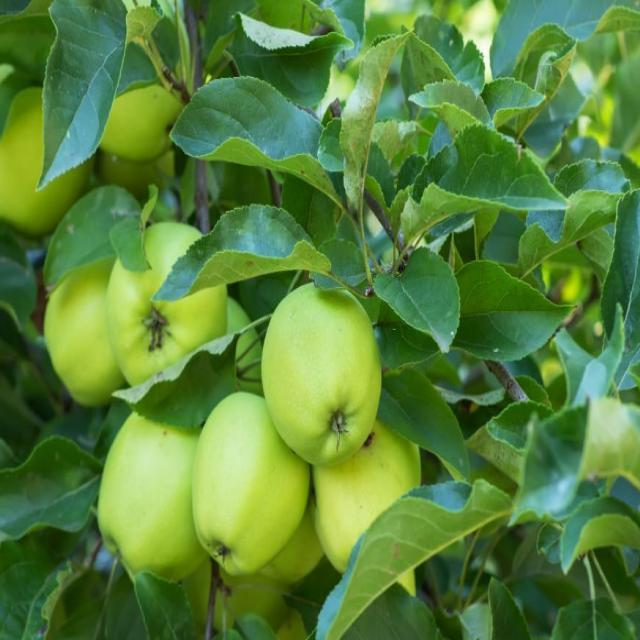Green Apple: (198, 388, 313, 581), (102, 387, 209, 585), (264, 284, 376, 462), (115, 229, 229, 387), (319, 410, 425, 570), (1, 71, 88, 232), (232, 504, 320, 640), (52, 262, 140, 394), (98, 31, 184, 156)
